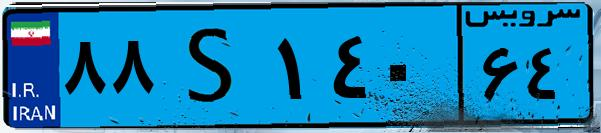0: (385, 28, 445, 110)
1: (270, 28, 330, 110)
4: (330, 28, 385, 110), (525, 38, 570, 115)
6: (475, 38, 525, 113)
8: (57, 26, 110, 100), (110, 28, 158, 98)
S: (158, 12, 270, 120)
